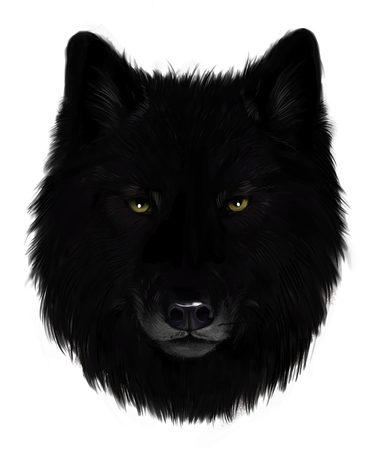Lobo: (20, 11, 380, 450)
